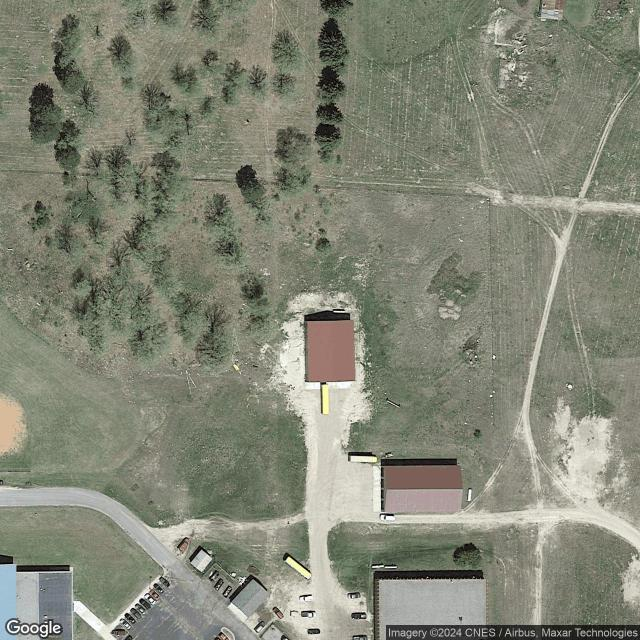Propane: (332, 308, 346, 314), (384, 563, 398, 569), (371, 563, 384, 569), (467, 487, 472, 502)
